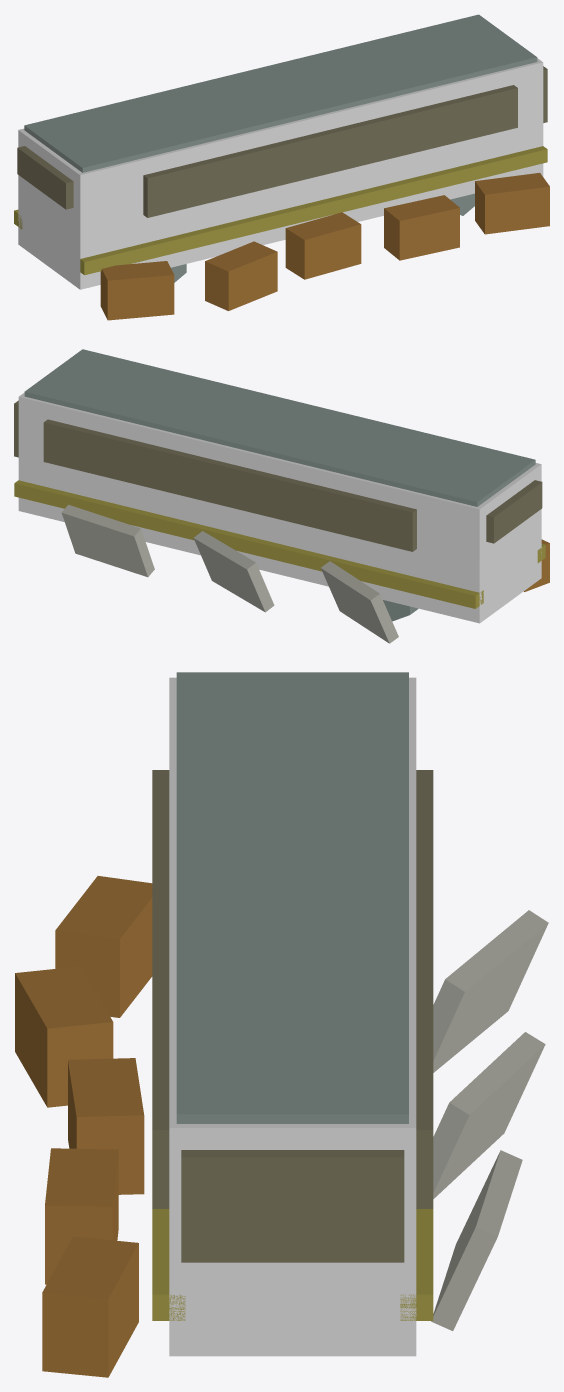
The model's file is SM_AutobusCruzado_v1_Barricada_LOD1.fbx.
The picture shows the model from 3 angles, top to bottom: view 1: azimuth 30°, elevation 25°; view 2: azimuth 150°, elevation 25°; view 3: azimuth 270°, elevation 25°; orthographic projection. The views are drawn at different scales.
Visible parts, largest first — view 1: SM_aqui_paso_algo_v16_LOD1; view 2: SM_aqui_paso_algo_v16_LOD1; view 3: SM_aqui_paso_algo_v16_LOD1.
Part boxes in pixels (box(x1,y1,x2,y2)): SM_aqui_paso_algo_v16_LOD1: box(14, 14, 549, 320); SM_aqui_paso_algo_v16_LOD1: box(14, 349, 549, 643); SM_aqui_paso_algo_v16_LOD1: box(15, 672, 548, 1377).
Bounding box in the file's own units: 11.36 × 3.16 × 5.51.
